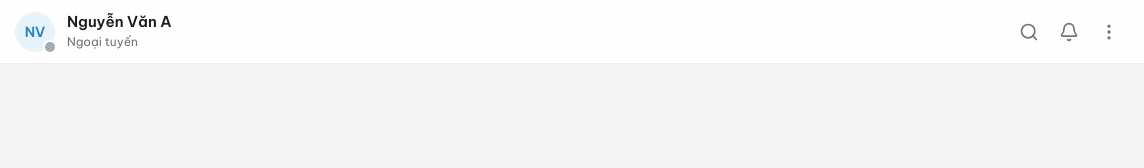
Scenario: ChatHeader Component Tests › 3-dot menu (FR-48) › hides "Chặn người dùng" and "Bỏ chặn" when the user is the blocked one (BR-38)
Click the button named "Tùy chọn hội thoại": click(1109, 32) top-left (1091, 14), bottom-right (1127, 50)
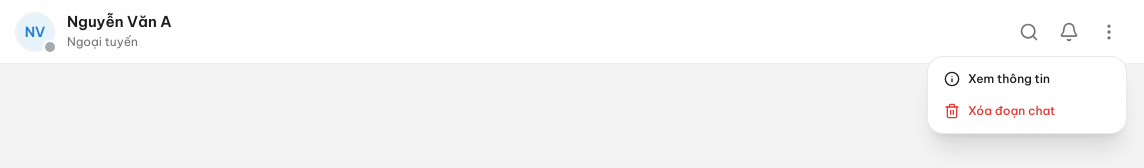
Check: the menu item "Xóa đoạn chat" is shown, box top-left (944, 103), bottom-right (1055, 119)
